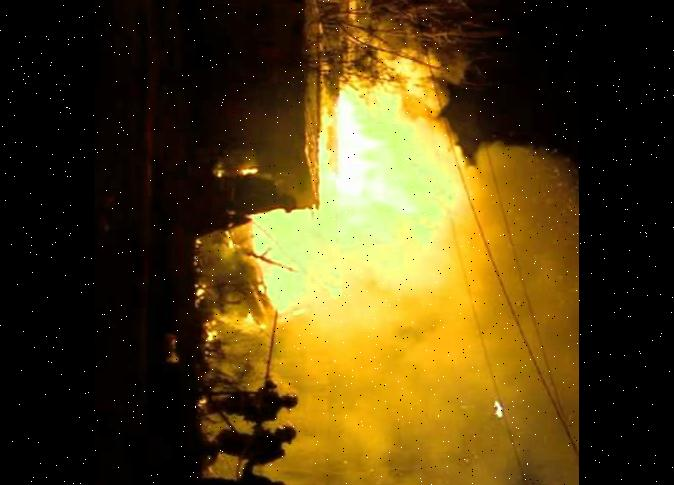fire: (319, 0, 460, 327)
